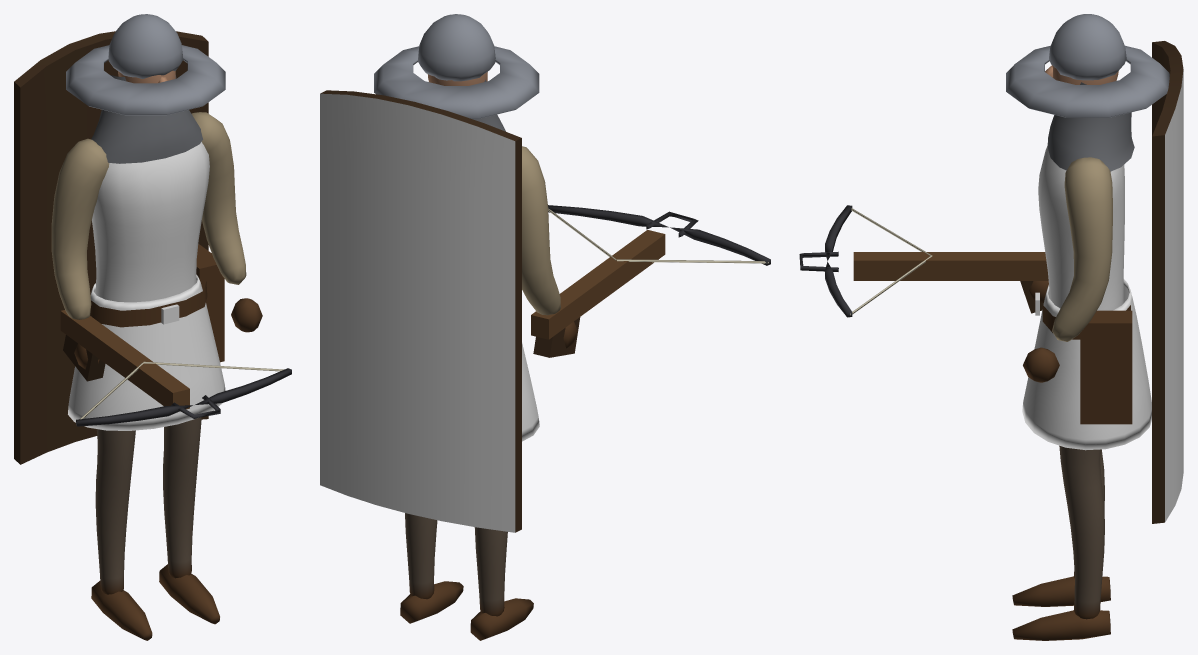
File: archer_2.glb
The picture shows the model from 3 angles, left to right: view 1: azimuth 30°, elevation 25°; view 2: azimuth 150°, elevation 25°; view 3: azimuth 270°, elevation 25°; orthographic projection. The views are drawn at different scales.
Visible parts, largest first — view 1: archer_2; view 2: archer_2; view 3: archer_2.
Part boxes in pixels (x1,y1,x2,y2): archer_2: (14,14,291,640); archer_2: (320,14,770,640); archer_2: (799,14,1183,640).
Size of the model in its own units: 0.8922 by 1.8 by 1.03.
